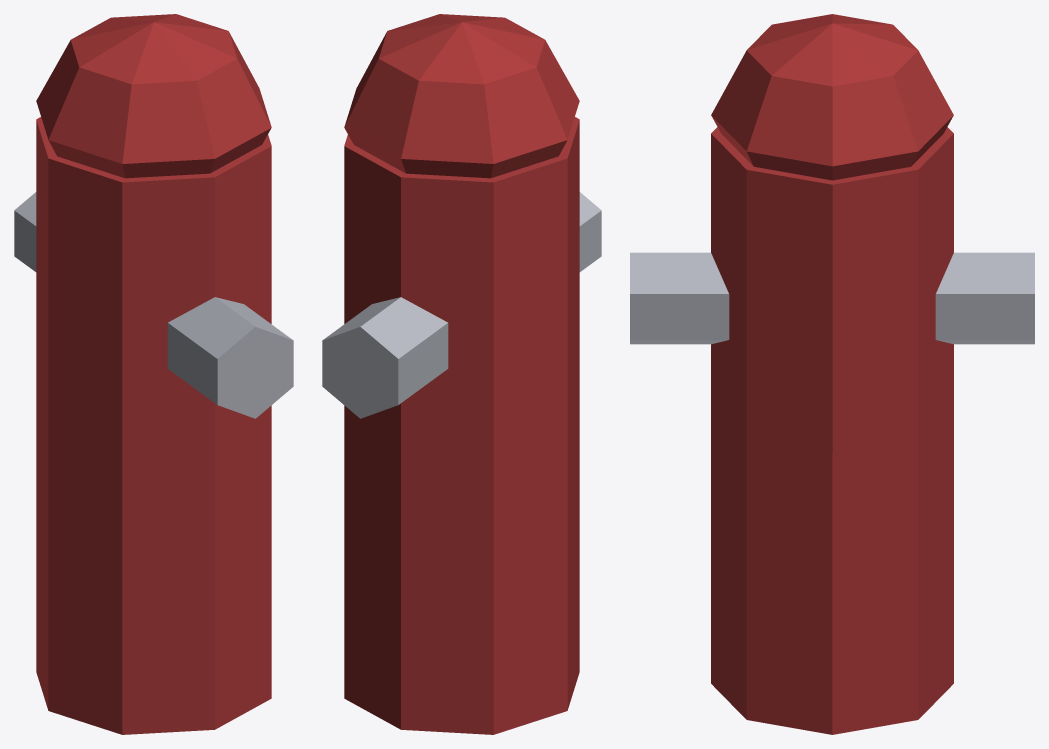
File: SM_Hydrant.fbx
The picture shows the model from 3 angles, left to right: view 1: azimuth 30°, elevation 25°; view 2: azimuth 150°, elevation 25°; view 3: azimuth 270°, elevation 25°; orthographic projection.
Visible parts, largest first — view 1: SM_Hydrant; view 2: SM_Hydrant; view 3: SM_Hydrant.
Boxes of the visible parts, <box> form: SM_Hydrant: <box>14,14,293,734</box>; SM_Hydrant: <box>322,14,601,734</box>; SM_Hydrant: <box>630,14,1034,734</box>.
Size of the model in its own units: 24 by 72 by 40.
